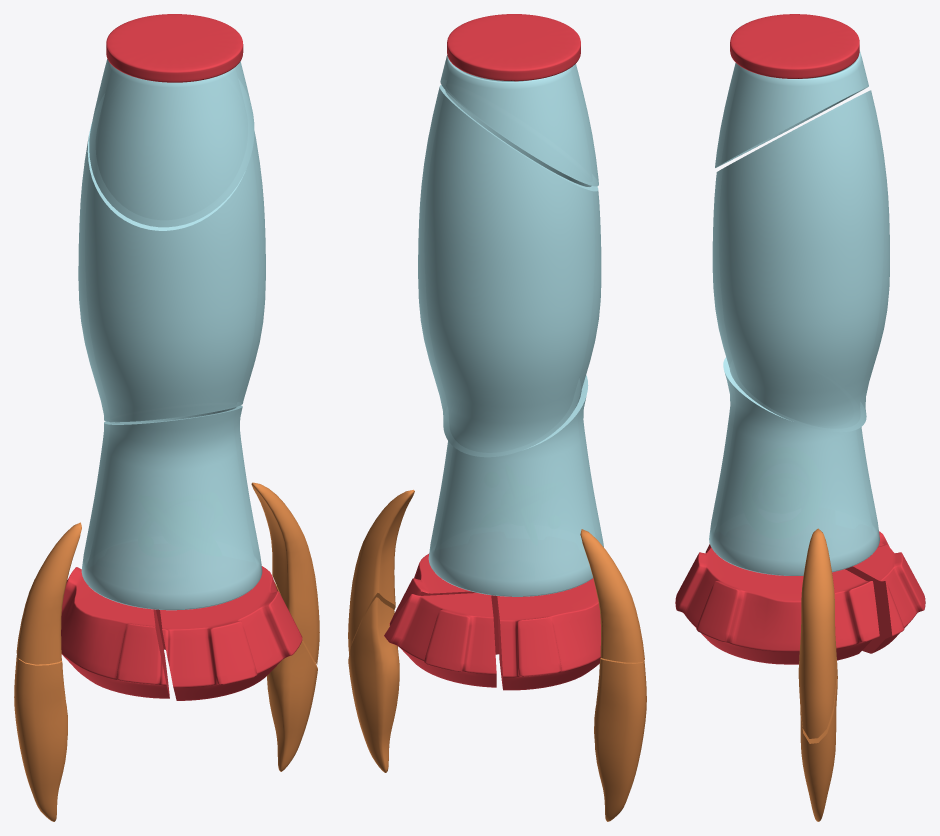
Rendered from HARD_BLENDER_fixed.fbx.
3 views of the same model, side by side, from view 1: azimuth 30°, elevation 25°; view 2: azimuth 150°, elevation 25°; view 3: azimuth 270°, elevation 25° (orthographic). The views are drawn at different scales.
Parts seen in each view (by area): view 1: Middle_glass, bottom_glass, top_glass, Base_1, base_2, top, bottom_L_stands, top_R_stands, top_L_stands, bottom_R_stands; view 2: Middle_glass, bottom_glass, top_glass, base_2, base_3, top, bottom_L_stands, bottom_R_stands, top_R_stands, top_L_stands, Base_1; view 3: Middle_glass, bottom_glass, Base_1, top_glass, top, top_R_stands, base_3, bottom_R_stands.
Boxes of the visible parts, x1,y1,x2,y2 form: Middle_glass: [78, 123, 265, 422]; bottom_glass: [81, 405, 262, 610]; top_glass: [89, 59, 254, 227]; Base_1: [160, 566, 302, 700]; base_2: [61, 567, 169, 698]; top: [106, 14, 243, 82]; bottom_L_stands: [14, 655, 67, 821]; top_R_stands: [251, 482, 319, 664]; top_L_stands: [16, 522, 81, 664]; bottom_R_stands: [267, 582, 317, 771]; Middle_glass: [418, 85, 601, 457]; bottom_glass: [428, 375, 603, 596]; top_glass: [440, 55, 598, 186]; base_2: [497, 578, 600, 690]; base_3: [384, 593, 496, 687]; top: [447, 14, 580, 81]; bottom_L_stands: [594, 658, 646, 821]; bottom_R_stands: [348, 597, 399, 772]; top_R_stands: [348, 489, 414, 654]; top_L_stands: [580, 529, 644, 662]; Base_1: [389, 553, 499, 654]; Middle_glass: [712, 90, 889, 432]; bottom_glass: [709, 357, 879, 575]; Base_1: [675, 544, 879, 664]; top_glass: [715, 50, 868, 167]; top: [730, 14, 859, 78]; top_R_stands: [798, 528, 836, 738]; base_3: [845, 545, 925, 653]; bottom_R_stands: [800, 657, 837, 821].
Bounding box in the file's own units: 180 × 440 × 137.
